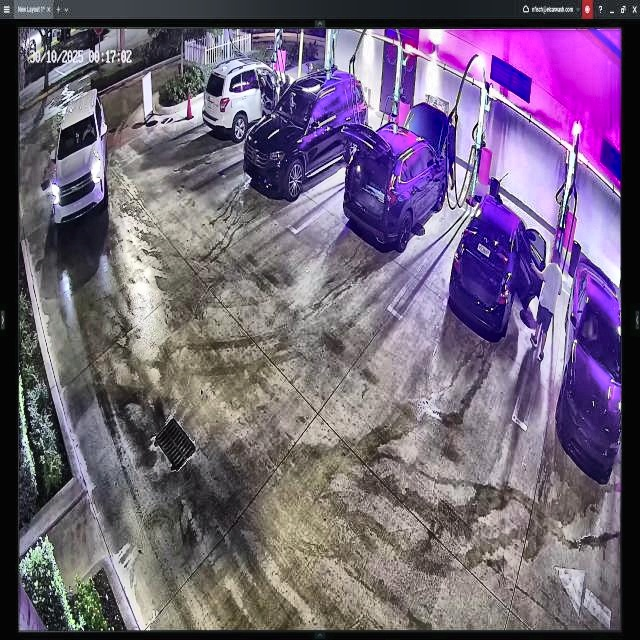Car: (336, 100, 450, 241), (247, 67, 365, 201), (451, 187, 544, 346)
